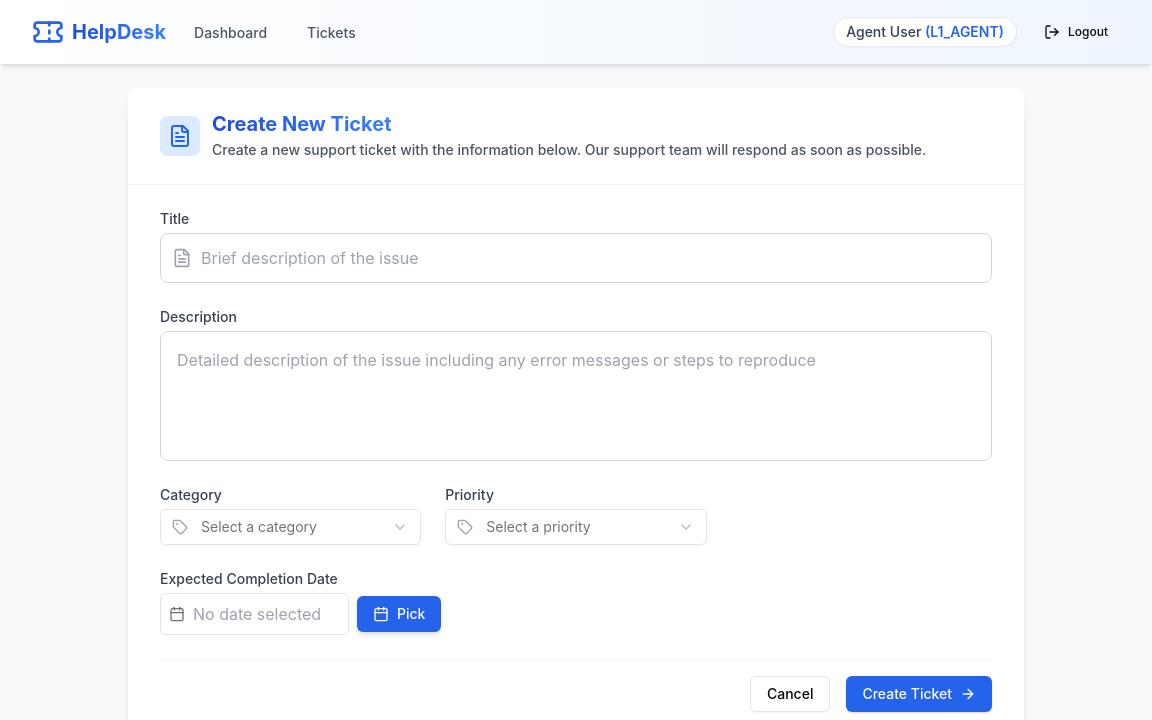
it: CreateTicket › validates required fields before submission
// Submit form without filling any fields
Click the button "Create Ticket": [919, 694] box left=846, top=676, right=992, bottom=712
(page scrolled)
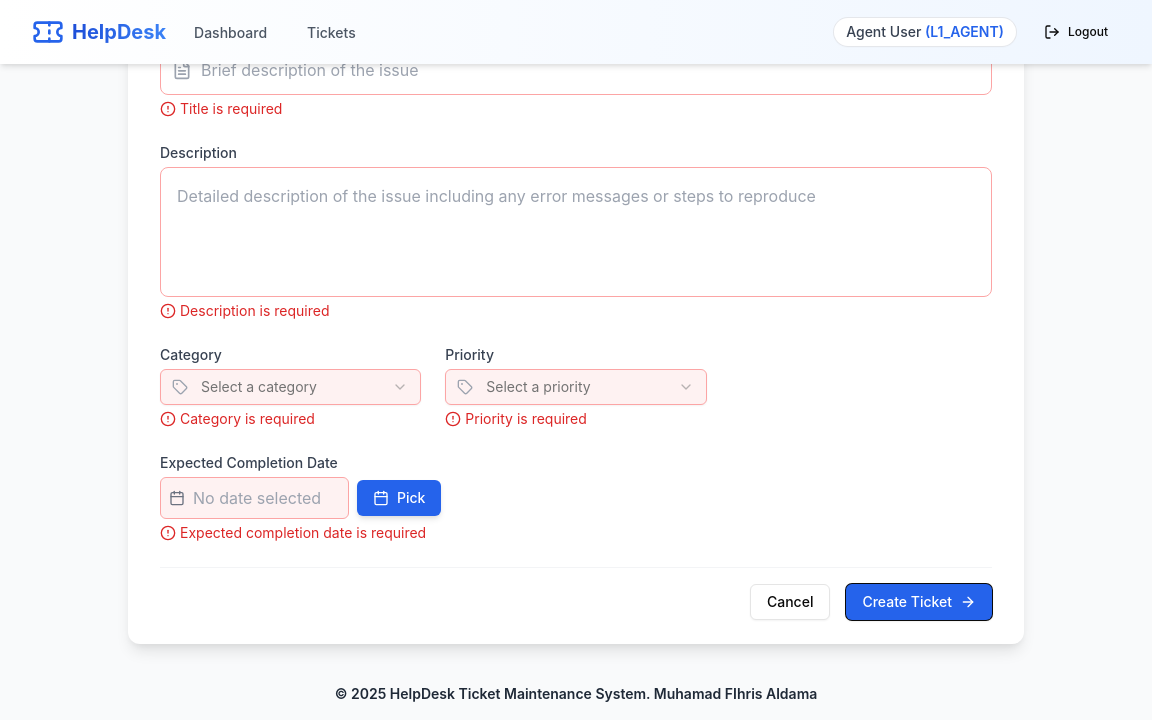
Expected: the text "Title is required" is shown, left=160, top=100, right=282, bottom=117
Expected: the text "Description is required" is shown, left=160, top=302, right=330, bottom=319
Expected: the text "Category is required" is shown, left=160, top=410, right=315, bottom=427
